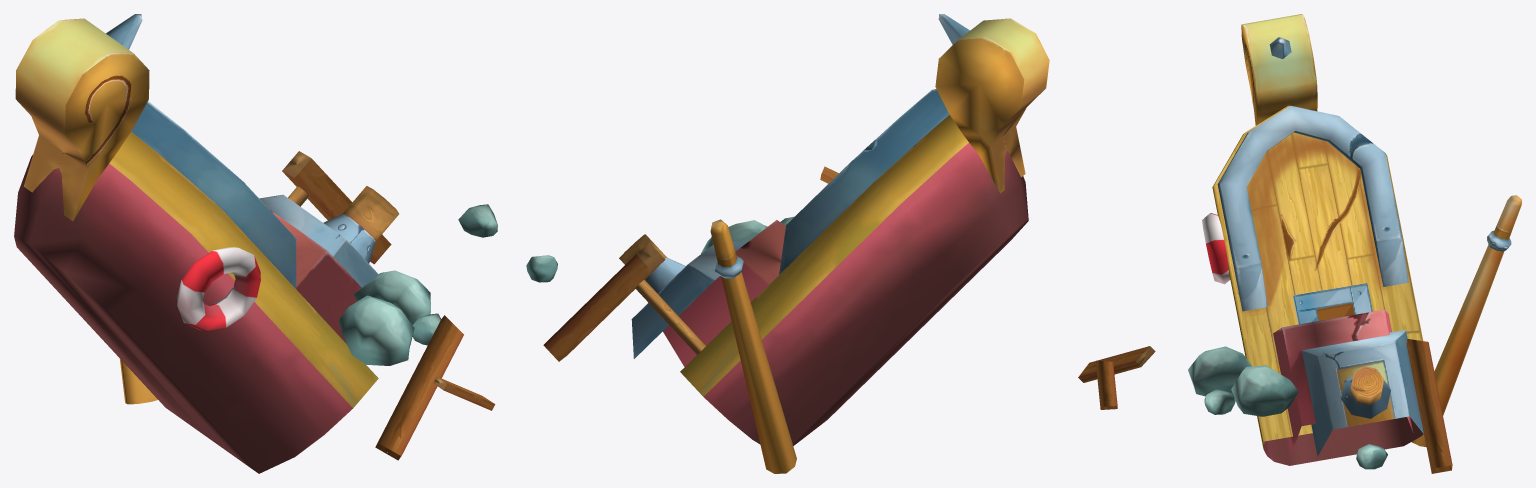
File: chenchuan.fbx
3 views of the same model, side by side, from view 1: azimuth 30°, elevation 25°; view 2: azimuth 150°, elevation 25°; view 3: azimuth 270°, elevation 25° (orthographic). The views are drawn at different scales.
Visible parts, largest first — view 1: chenchuan; view 2: chenchuan; view 3: chenchuan.
Boxes of the visible parts, <box> form: chenchuan: <box>14,14,497,473</box>; chenchuan: <box>526,14,1049,473</box>; chenchuan: <box>1078,14,1521,473</box>.
Bounding box in the file's own units: 19 × 17.07 × 18.07.
